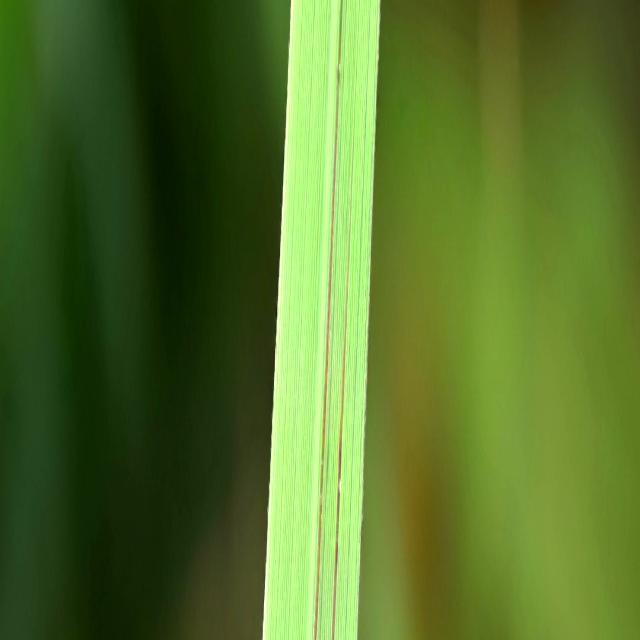BLS: (314, 0, 343, 640), (331, 120, 354, 640)
